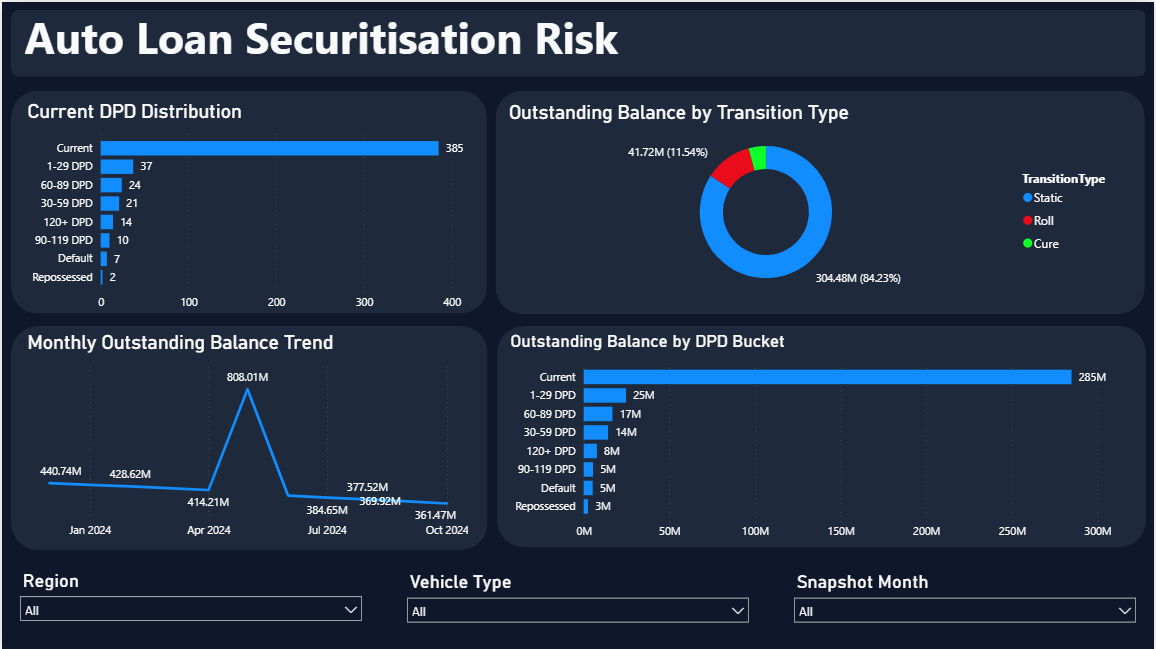

This screenshot's page, from the dashboard's own definition file:
{"tool":"powerbi","page":{"name":"Credit Risk Analysis","canvas":[1280,720],"ordinal":1},"visuals":[{"type":"shape","box":[10,7.6,1261,74.8],"z":0},{"type":"shape","box":[10,360.2,529.7,249],"z":0,"group":"g2"},{"type":"textbox","box":[20,0,742,140],"z":1000},{"type":"shape","box":[10,97.8,529,248],"z":2000,"group":"g1"},{"type":"slicer","fields":{"Values":["auto_loan_securitisation_data.Region"]},"box":[10,625,400,78.8],"z":2000},{"type":"slicer","fields":{"Values":["auto_loan_securitisation_data.VehicleType"]},"box":[440,626,400,78],"z":3000},{"type":"barChart","title":"Current DPD Distribution","fields":{"Category":["dpd_snapshot_history.DPD_Bucket"],"Y":["dpd_snapshot_history.Current Loan Count"]},"box":[22.7,108,504.5,242.7],"z":4000,"group":"g1"},{"type":"slicer","fields":{"Values":["dpd_snapshot_history.SnapshotDate.Variation.Date Hierarchy.Month","dpd_snapshot_history.SnapshotDate.Variation.Date Hierarchy.Year"]},"box":[870,626,400,78],"z":4000},{"type":"group","id":"g1","title":"Group 1","box":[10,97.5,1260,252.5],"z":5000},{"type":"shape","box":[548.2,97.5,721.6,248.5],"z":5000,"group":"g1"},{"type":"donutChart","title":"Outstanding Balance by Transition Type","fields":{"Category":["dpd_snapshot_history.TransitionType"],"Y":["dpd_snapshot_history.Current Outstanding Balance"]},"box":[558.9,108.4,687.2,221.4],"z":6000,"group":"g1"},{"type":"group","id":"g2","title":"Group 2","box":[10,360,1261.7,248.3],"z":6000},{"type":"shape","box":[549.6,360,721.2,245.8],"z":7000,"group":"g2"},{"type":"barChart","title":"Outstanding Balance by DPD Bucket","fields":{"Category":["dpd_snapshot_history.DPD_Bucket"],"Y":["dpd_snapshot_history.Current Outstanding Balance"]},"box":[559.6,365.3,688,240.8],"z":8000,"group":"g2"},{"type":"lineChart","title":"Monthly Outstanding Balance Trend","fields":{"Y":["Sum(dpd_snapshot_history.CurrentBalance)"],"Category":["dpd_snapshot_history.SnapshotDate.Variation.Date Hierarchy.Year","dpd_snapshot_history.SnapshotDate.Variation.Date Hierarchy.Month"]},"box":[22.8,365.5,499.7,239.4],"z":9000,"group":"g2"}]}

Visuals, with their boxes in screenshot pixels (x1, y1, x2, y2), scaled from the page's 1280x720 canvas onto the 1156x649 screenshot:
shape: <region>9, 7, 1148, 74</region>
shape: <region>9, 325, 487, 549</region>
textbox: <region>18, 0, 688, 126</region>
shape: <region>9, 88, 487, 312</region>
slicer - auto_loan_securitisation_data.Region: <region>9, 563, 370, 634</region>
slicer - auto_loan_securitisation_data.VehicleType: <region>397, 564, 759, 635</region>
"Current DPD Distribution" barChart: <region>21, 97, 476, 316</region>
slicer - dpd_snapshot_history.SnapshotDate.Variation.Date Hierarchy.Month x dpd_snapshot_history.SnapshotDate.Variation.Date Hierarchy.Year: <region>786, 564, 1147, 635</region>
"Group 1" group: <region>9, 88, 1147, 315</region>
shape: <region>495, 88, 1147, 312</region>
"Outstanding Balance by Transition Type" donutChart: <region>505, 98, 1125, 297</region>
"Group 2" group: <region>9, 324, 1149, 548</region>
shape: <region>496, 324, 1148, 546</region>
"Outstanding Balance by DPD Bucket" barChart: <region>505, 329, 1127, 546</region>
"Monthly Outstanding Balance Trend" lineChart: <region>21, 329, 472, 545</region>
